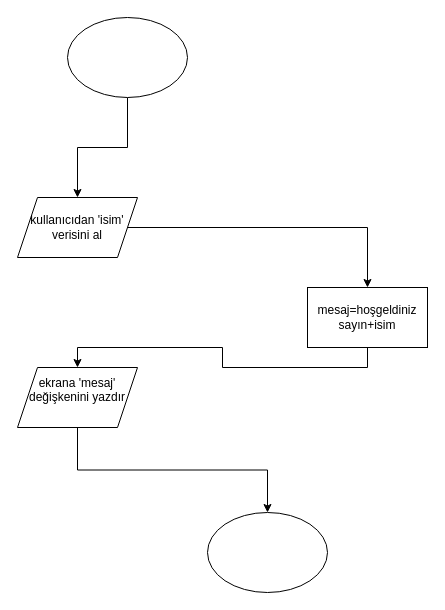
Image size: 445x610. Some labels were removed from this diagram. The box of each missing label's shape, as (x1, y1, x2, y2) in pixels:
BAŞLA: (66, 16, 188, 98)
DUR: (206, 512, 328, 592)
